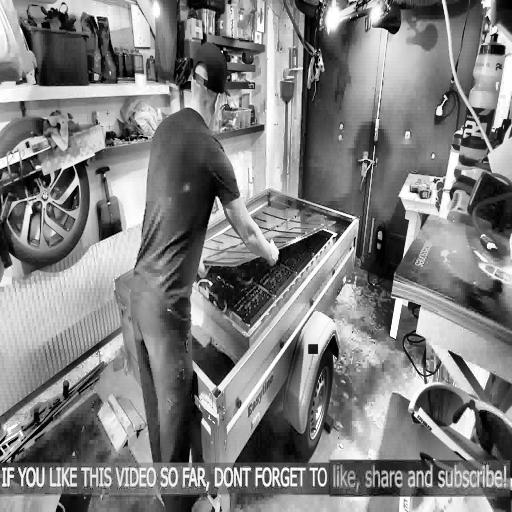b_casing: (181, 205, 337, 269)
